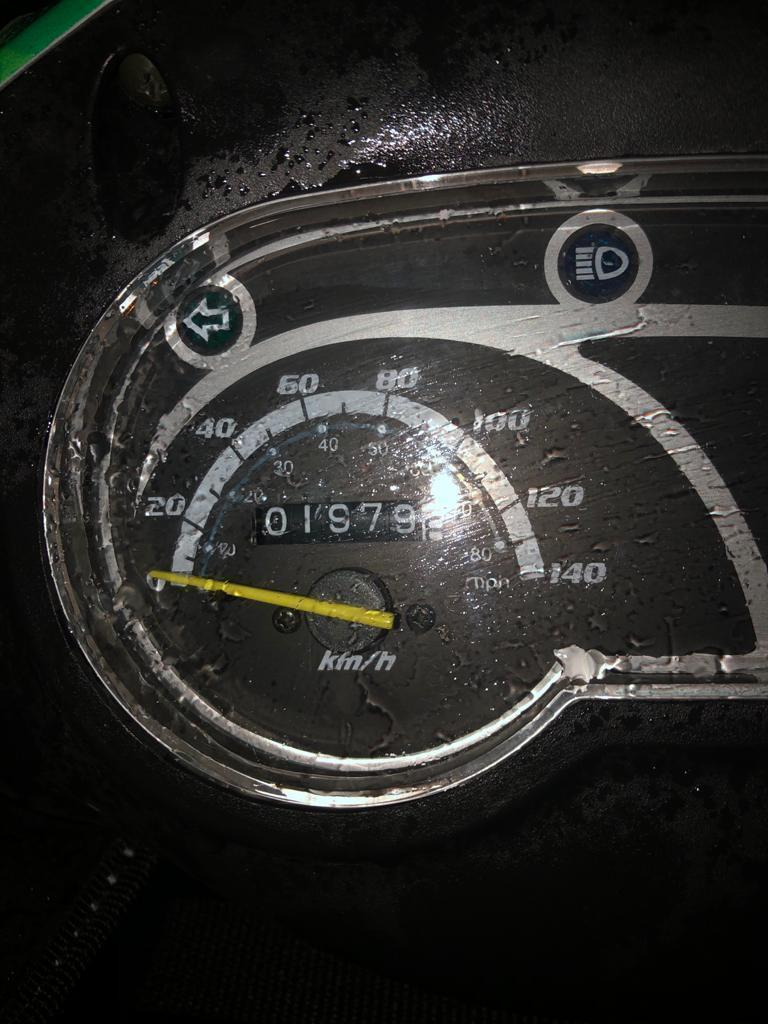0: (264, 505, 289, 537)
1: (301, 501, 314, 540)
7: (361, 500, 384, 533)
8: (422, 513, 447, 544)
9: (391, 501, 416, 537), (327, 502, 353, 535)
odometer: (248, 500, 448, 545)
